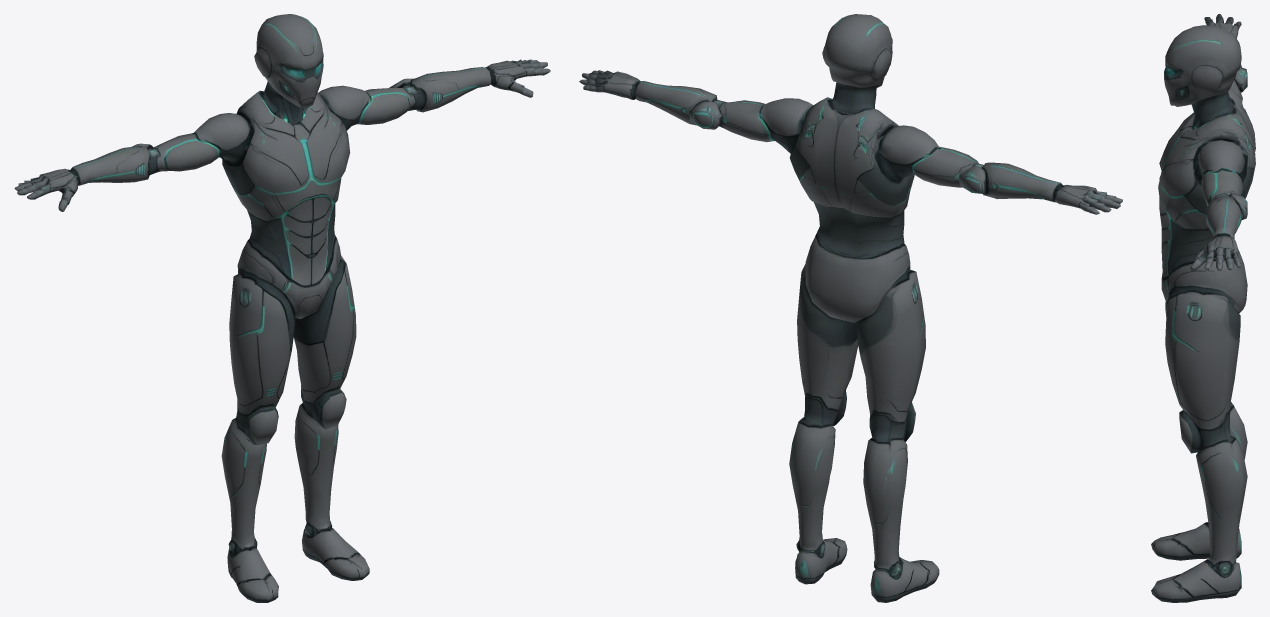
The model's file is volt.glb.
3 views of the same model, side by side, from view 1: azimuth 30°, elevation 25°; view 2: azimuth 150°, elevation 25°; view 3: azimuth 270°, elevation 25° (orthographic). The views are drawn at different scales.
Visible parts, largest first — view 1: Graphite Teal Aero Synth; view 2: Graphite Teal Aero Synth; view 3: Graphite Teal Aero Synth.
Part boxes in pixels (x1,y1,x2,y2): Graphite Teal Aero Synth: (14,14,550,602); Graphite Teal Aero Synth: (579,14,1122,602); Graphite Teal Aero Synth: (1151,14,1255,602).
Bounding box in the file's own units: 0.998 × 0.998 × 0.1739.
Materials: 1 (1 with a texture image).
